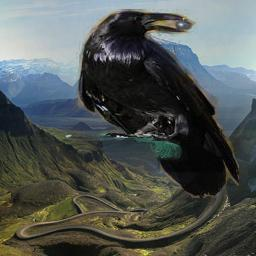Crow: (77, 10, 240, 199)
